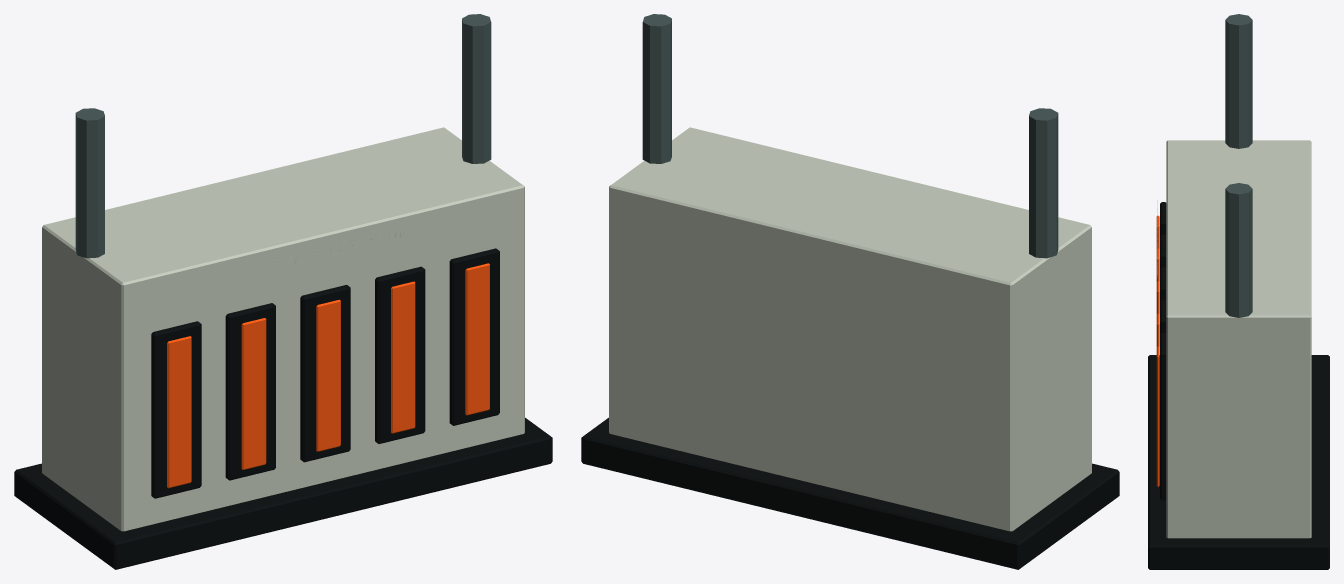
File: SM_MP_Furnace_Bank.fbx
3 views of the same model, side by side, from view 1: azimuth 30°, elevation 25°; view 2: azimuth 150°, elevation 25°; view 3: azimuth 270°, elevation 25° (orthographic). The views are drawn at different scales.
Parts seen in each view (by area): view 1: SM_MP_Furnace_Bank; view 2: SM_MP_Furnace_Bank; view 3: SM_MP_Furnace_Bank.
Boxes of the visible parts, bbox=[...] form: SM_MP_Furnace_Bank: bbox=[14, 14, 552, 569]; SM_MP_Furnace_Bank: bbox=[581, 14, 1119, 569]; SM_MP_Furnace_Bank: bbox=[1148, 14, 1329, 569].
Bounding box in the file's own units: 500 × 200 × 450.
1 material, 1 textured.
